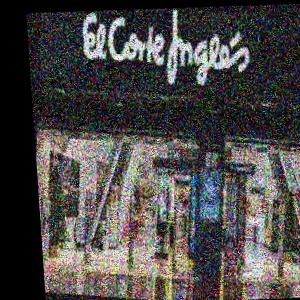corte_ingles: (232, 5, 276, 9)
